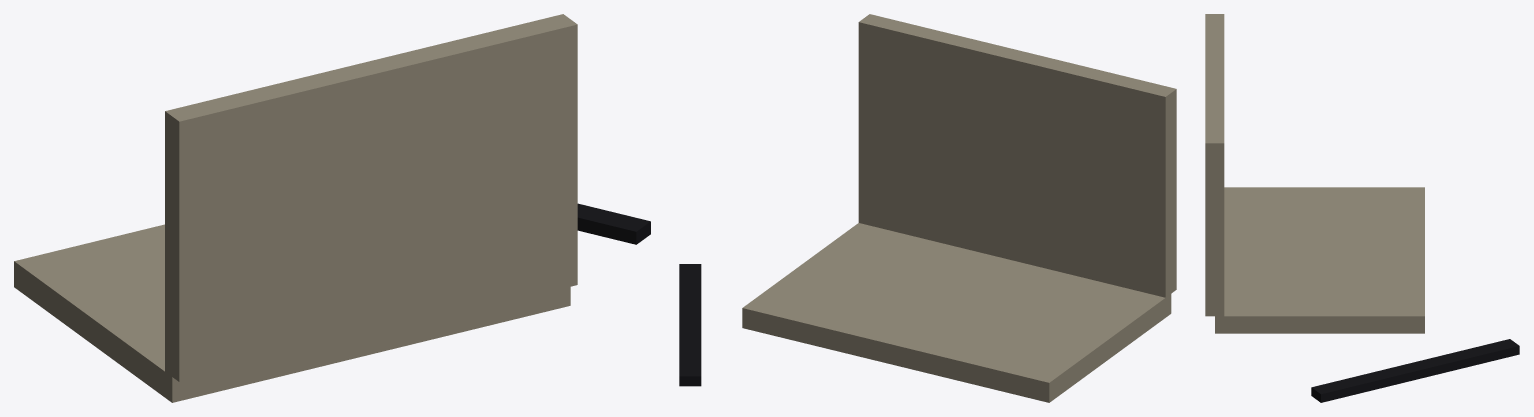
The model's file is station_processing_1.glb.
3 renders of one model, left to right at view 1: azimuth 30°, elevation 25°; view 2: azimuth 150°, elevation 25°; view 3: azimuth 270°, elevation 25°, orthographic. The views are drawn at different scales.
Visible parts, largest first — view 1: laptop_lehne, laptop_deck, kabel_lose; view 2: laptop_lehne, laptop_deck, kabel_lose; view 3: laptop_deck, laptop_lehne, kabel_lose.
Boxes of the visible parts, x1,y1,x2,y2 form: laptop_lehne: [165, 14, 577, 381]; laptop_deck: [14, 224, 570, 402]; kabel_lose: [577, 203, 650, 244]; laptop_lehne: [858, 14, 1176, 297]; laptop_deck: [742, 223, 1171, 402]; kabel_lose: [679, 264, 701, 386]; laptop_deck: [1215, 187, 1424, 333]; laptop_lehne: [1205, 14, 1224, 316]; kabel_lose: [1311, 339, 1519, 402].
Size of the model in its own units: 0.4487 by 0.24 by 0.3289.
